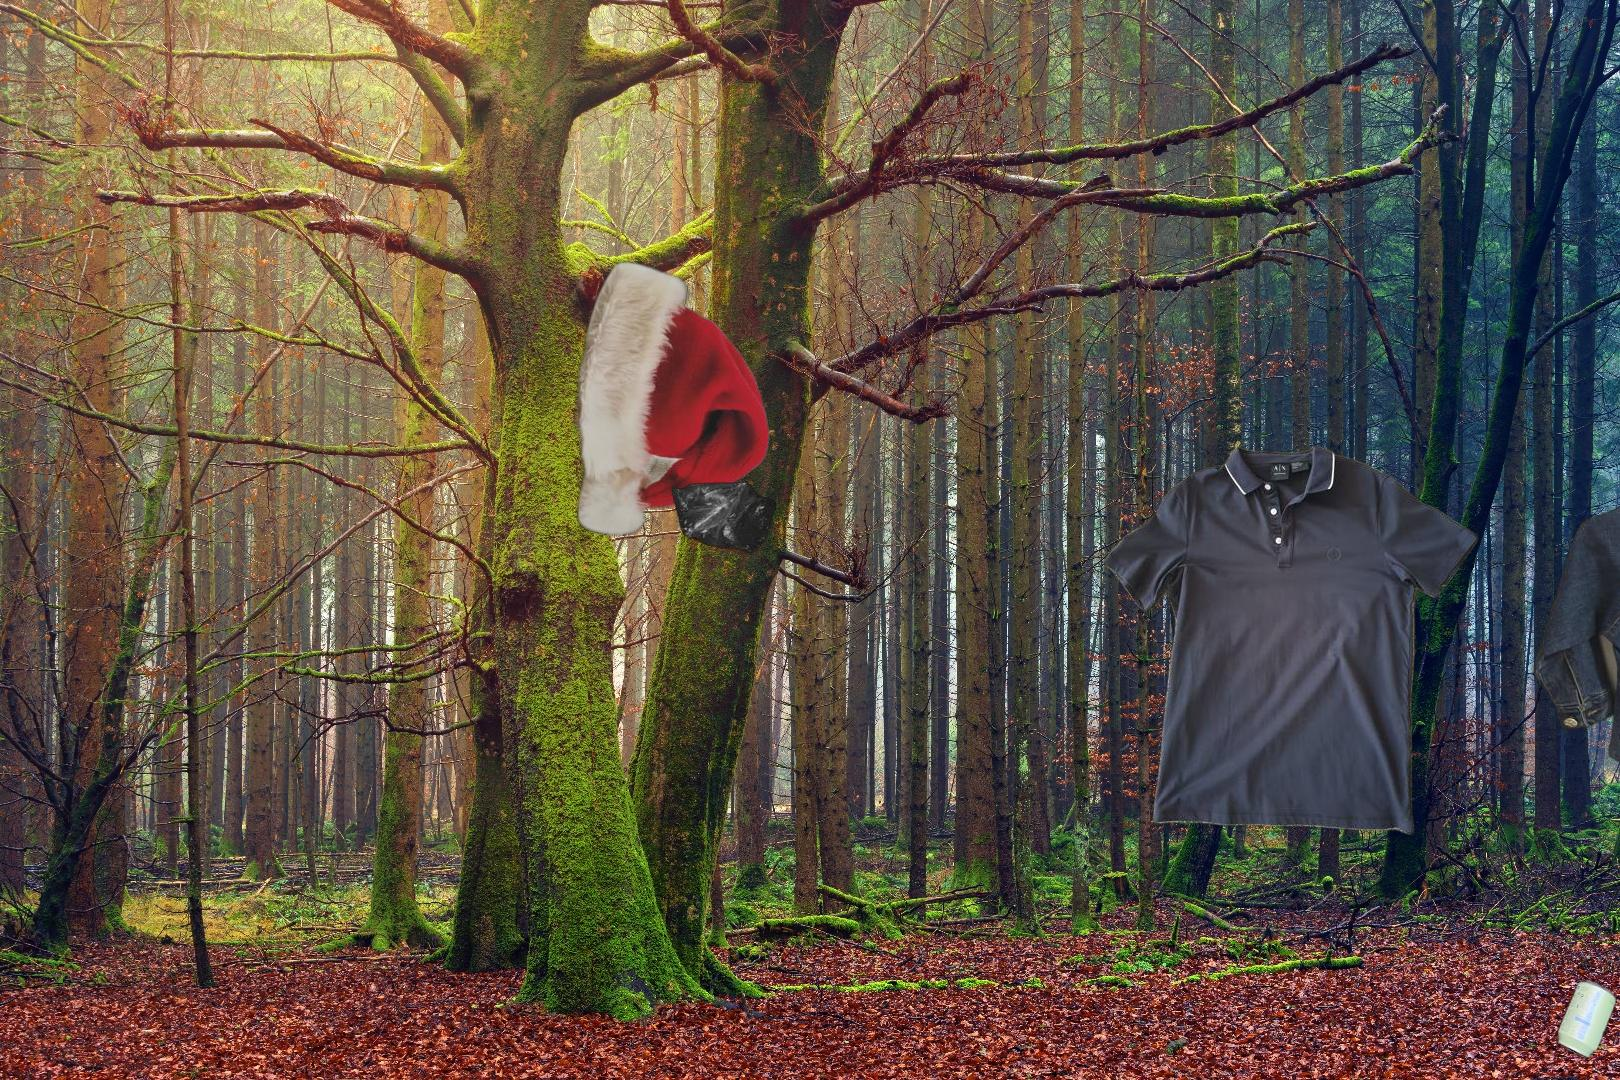clothes: (1100, 440, 1483, 839), (1531, 432, 1620, 776)
metal-cans: (1161, 915, 1620, 1064)
paper: (570, 257, 994, 546)
plastic-bag: (585, 287, 777, 556)
